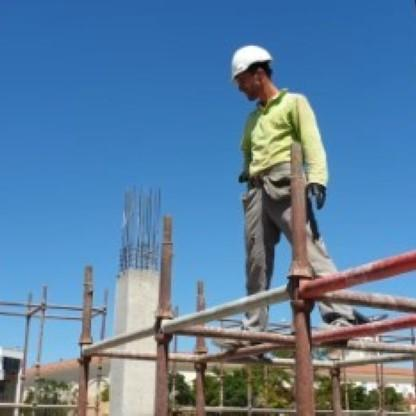helmet: (210, 33, 295, 108)
